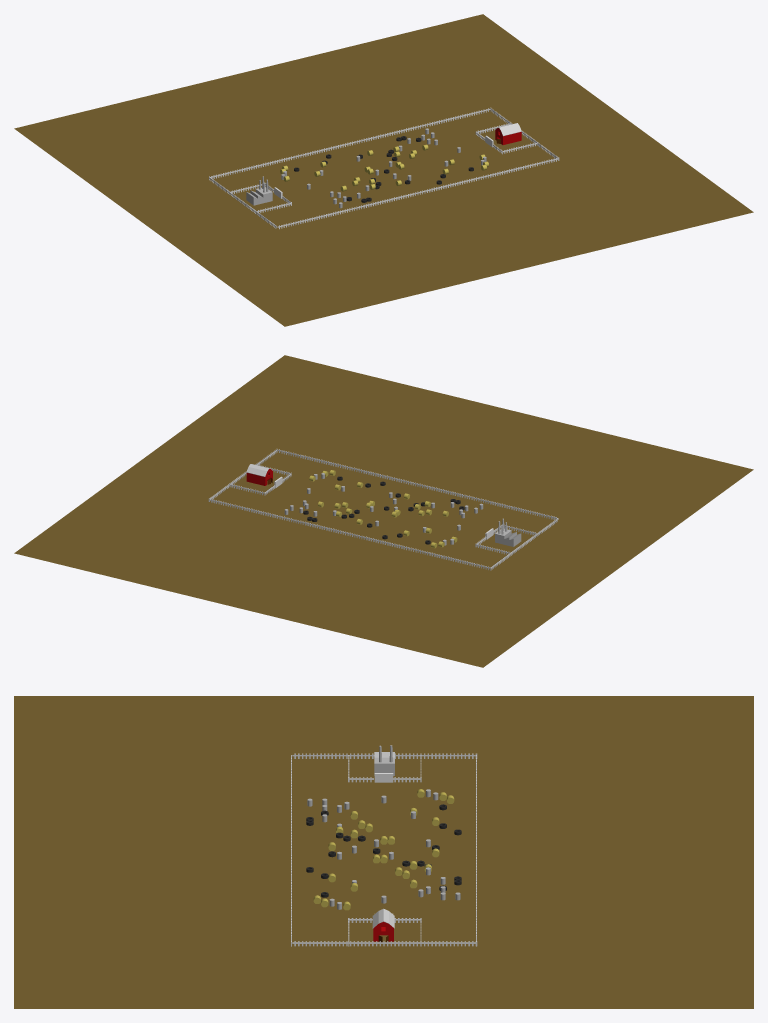
Rendered from Map8.fbx.
The picture shows the model from 3 angles, top to bottom: view 1: azimuth 30°, elevation 25°; view 2: azimuth 150°, elevation 25°; view 3: azimuth 270°, elevation 25°; orthographic projection. The views are drawn at different scales.
Parts seen in each view (by area): view 1: Terrain, Barrieres, Obstacles; view 2: Terrain, Barrieres, Obstacles; view 3: Terrain, Obstacles, Barrieres, Ferme.
Boxes of the visible parts, x1,y1,x2,y2 form: Terrain: (14, 14, 753, 326); Barrieres: (209, 107, 559, 229); Obstacles: (280, 128, 488, 208); Terrain: (14, 355, 753, 667); Barrieres: (208, 449, 558, 570); Obstacles: (284, 470, 483, 548); Terrain: (14, 696, 753, 1008); Obstacles: (306, 789, 461, 910); Barrieres: (291, 753, 477, 946); Ferme: (372, 908, 394, 942).
Size of the model in its own units: 200 by 9.78 by 200.
